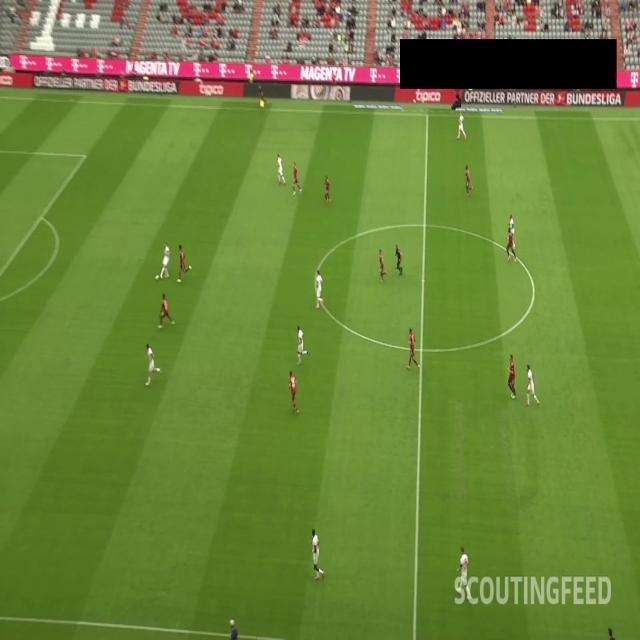ball: (153, 272, 161, 282)
player: (455, 542, 473, 604), (309, 523, 326, 584), (143, 339, 164, 388), (156, 290, 176, 330), (406, 325, 422, 373), (525, 361, 541, 407), (504, 351, 518, 402), (312, 267, 327, 314), (295, 321, 310, 368), (176, 241, 191, 286), (288, 158, 304, 199), (461, 158, 475, 198), (289, 368, 301, 414), (274, 149, 288, 188), (160, 239, 171, 282), (377, 246, 388, 288), (506, 223, 516, 264), (321, 172, 332, 206), (457, 111, 468, 141), (508, 211, 516, 252)
referee: (390, 244, 406, 281), (254, 80, 268, 110)
